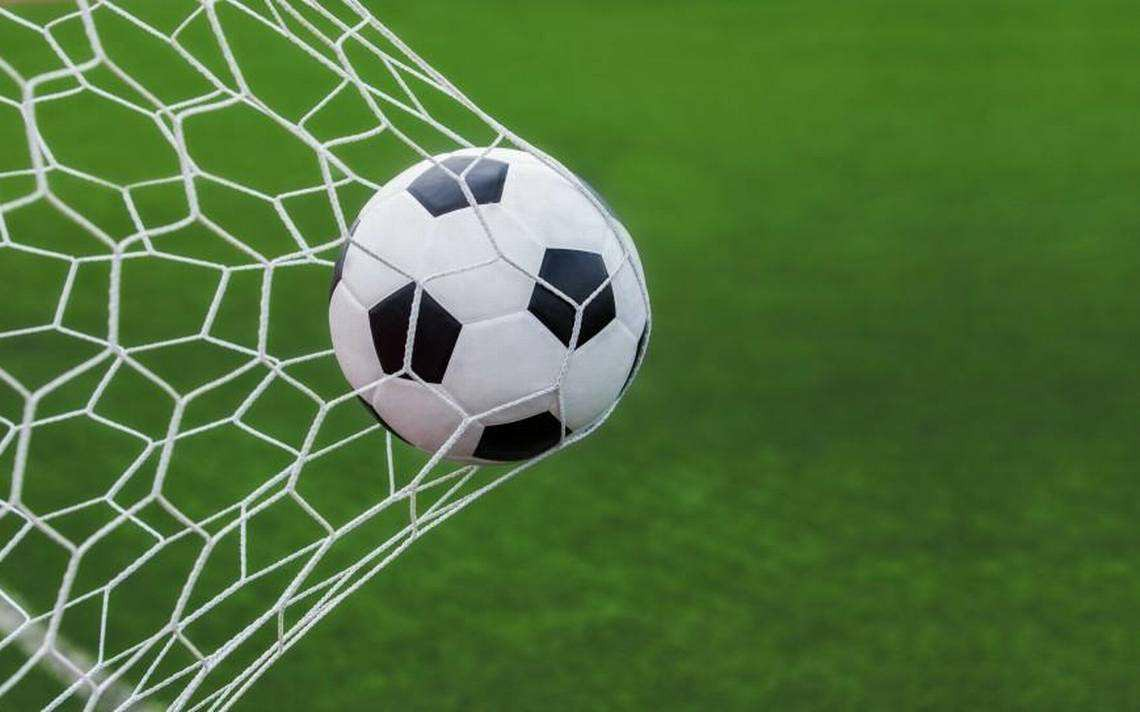football: (328, 149, 653, 465)
